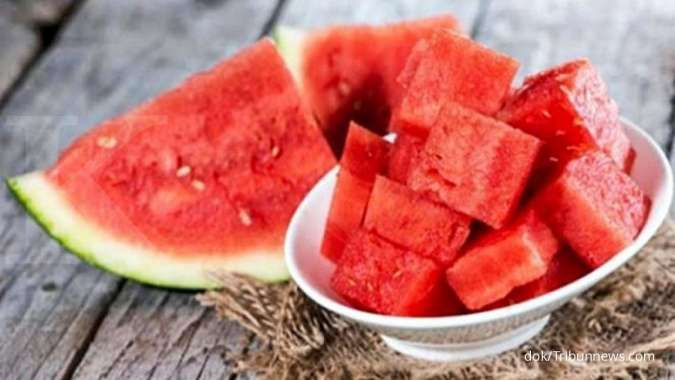Semangka: (29, 39, 321, 326), (420, 109, 533, 203), (306, 234, 419, 328), (559, 149, 639, 255)
